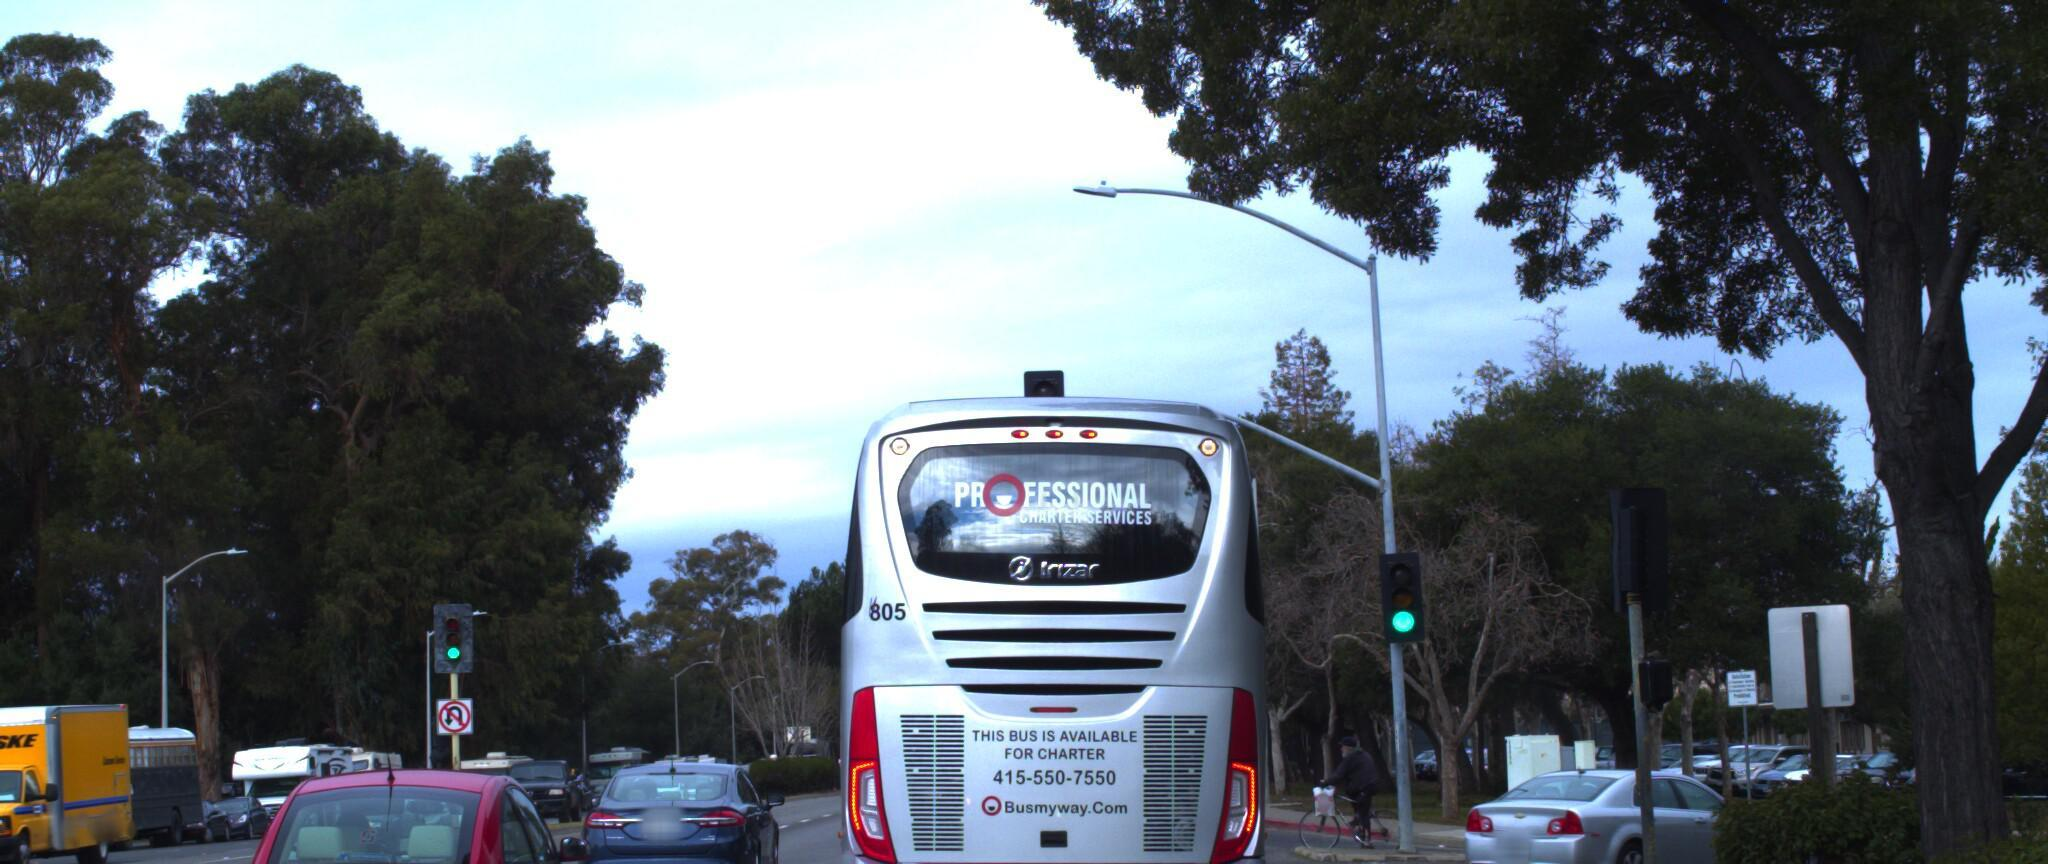bicycle: (1280, 717, 1396, 847)
bus: (795, 358, 1337, 864)
car: (178, 761, 641, 864), (1428, 740, 1779, 864), (566, 749, 782, 864)
truck: (0, 696, 157, 864)
